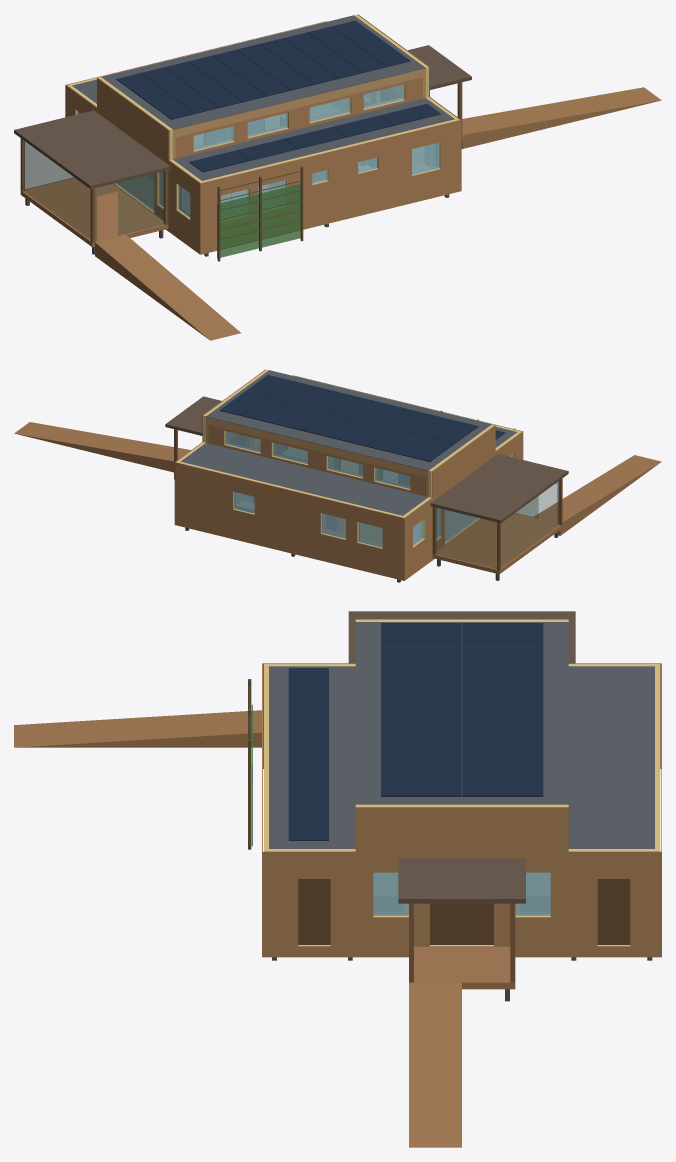
File: lodge.obj
The picture shows the model from 3 angles, top to bottom: view 1: azimuth 30°, elevation 25°; view 2: azimuth 150°, elevation 25°; view 3: azimuth 270°, elevation 25°; orthographic projection. The views are drawn at different scales.
Visible parts, largest first — view 1: south_rainscreen, hall_pv, porch_west-porch_roof, west_rainscreen, porch_west-porch_deck, hall_roof_membrane, ramp_porch-ramp, ramp_entry-ramp, trellis_planting, south_roof-membrane, south_pv, porch_west-porch_screen_west (+17 smaller); view 2: north_rainscreen, hall_pv, north_roof-membrane, porch_west-porch_roof, west_rainscreen, porch_west-porch_deck, hall_roof_membrane, ramp_entry-ramp, ramp_porch-ramp, porch_west-porch_screen_north, porch_west-porch_screen_west, hall_clerestory_north_rainscreen (+17 smaller); view 3: east_rainscreen, hall_pv, north_roof-membrane, hall_roof_membrane, south_roof-membrane, ramp_entry-ramp, ramp_porch-ramp, south_pv, porch_entry-deck_roof, porch_entry-deck_deck, opening_HE2, porch_west-porch_roof (+11 smaller).
Part boxes in pixels (x1,y1,x2,y2): south_rainscreen: (200, 120, 461, 254); hall_pv: (116, 20, 410, 119); porch_west-porch_roof: (14, 110, 170, 189); west_rainscreen: (65, 78, 200, 254); porch_west-porch_deck: (20, 177, 168, 247); hall_roof_membrane: (101, 15, 425, 129); ramp_porch-ramp: (95, 235, 241, 340); ramp_entry-ramp: (461, 87, 661, 148); trellis_planting: (217, 183, 300, 258); south_roof-membrane: (173, 98, 454, 180); south_pv: (189, 103, 440, 172); porch_west-porch_screen_west: (24, 141, 90, 239); north_rainscreen: (174, 462, 404, 580); hall_pv: (219, 375, 478, 461); north_roof-membrane: (181, 443, 428, 515); porch_west-porch_roof: (430, 454, 568, 523); west_rainscreen: (404, 425, 522, 580); porch_west-porch_deck: (432, 513, 562, 574); hall_roof_membrane: (206, 370, 491, 470); ramp_entry-ramp: (14, 422, 190, 472); ramp_porch-ramp: (534, 455, 661, 535); porch_west-porch_screen_north: (436, 508, 496, 568); porch_west-porch_screen_west: (501, 480, 559, 567); hall_clerestory_north_rainscreen: (208, 425, 425, 496); east_rainscreen: (263, 807, 661, 957); hall_pv: (381, 623, 543, 796); north_roof-membrane: (568, 666, 654, 848); hall_roof_membrane: (355, 622, 568, 804); south_roof-membrane: (269, 666, 355, 848); ramp_entry-ramp: (409, 982, 461, 1147); ramp_porch-ramp: (14, 710, 261, 747); south_pv: (288, 668, 328, 840); porch_entry-deck_roof: (398, 858, 525, 903); porch_entry-deck_deck: (414, 946, 515, 989); opening_HE2: (430, 903, 493, 944); porch_west-porch_roof: (348, 611, 575, 663).
Bounding box in the file's own units: 28.52 × 5.08 × 18.27.
